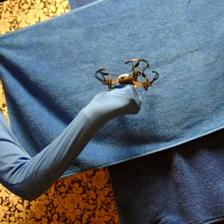drone: (96, 58, 161, 94)
